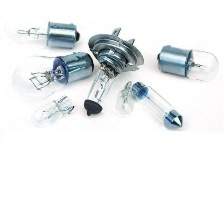light_bulb: (80, 26, 143, 122), (10, 48, 94, 105), (0, 6, 83, 51), (131, 78, 185, 132), (155, 41, 223, 83), (28, 95, 76, 129), (115, 78, 137, 118)
